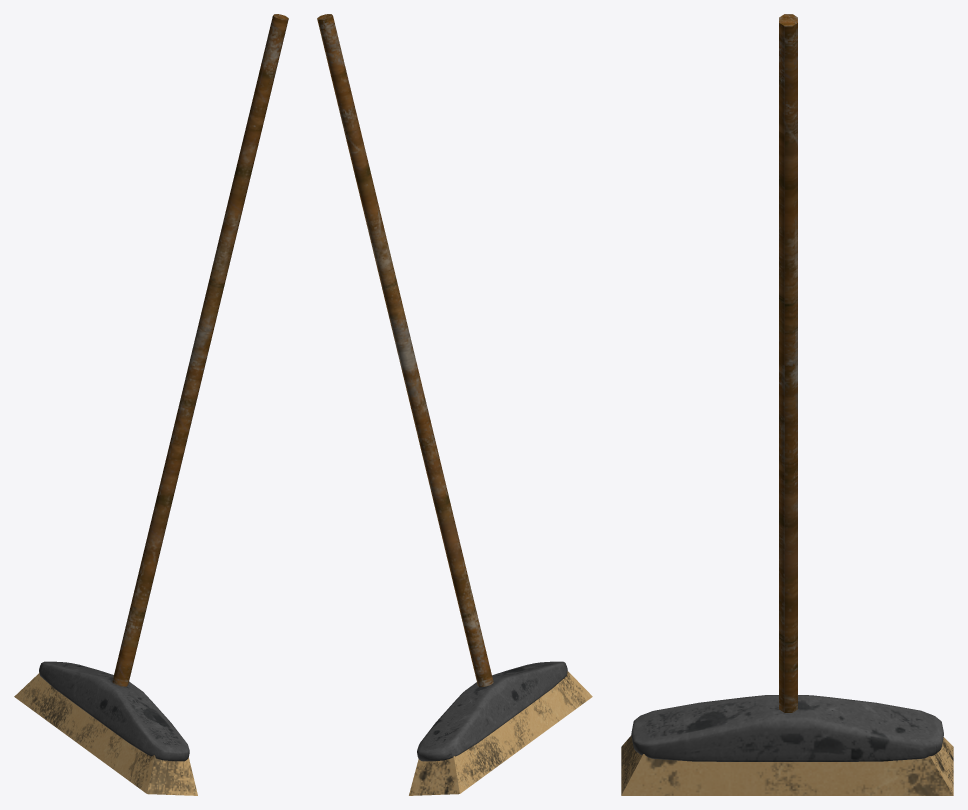
File: Prop_Mop.fbx
3 renders of one model, left to right at view 1: azimuth 30°, elevation 25°; view 2: azimuth 150°, elevation 25°; view 3: azimuth 270°, elevation 25°, orthographic. The views are drawn at different scales.
Parts seen in each view (by area): view 1: Prop_Mop; view 2: Prop_Mop; view 3: Prop_Mop.
Boxes of the visible parts, x1,y1,x2,y2 form: Prop_Mop: (14, 14, 288, 795); Prop_Mop: (317, 14, 592, 795); Prop_Mop: (621, 14, 953, 795).
Bounding box in the file's own units: 20.01 × 64.16 × 22.24.
